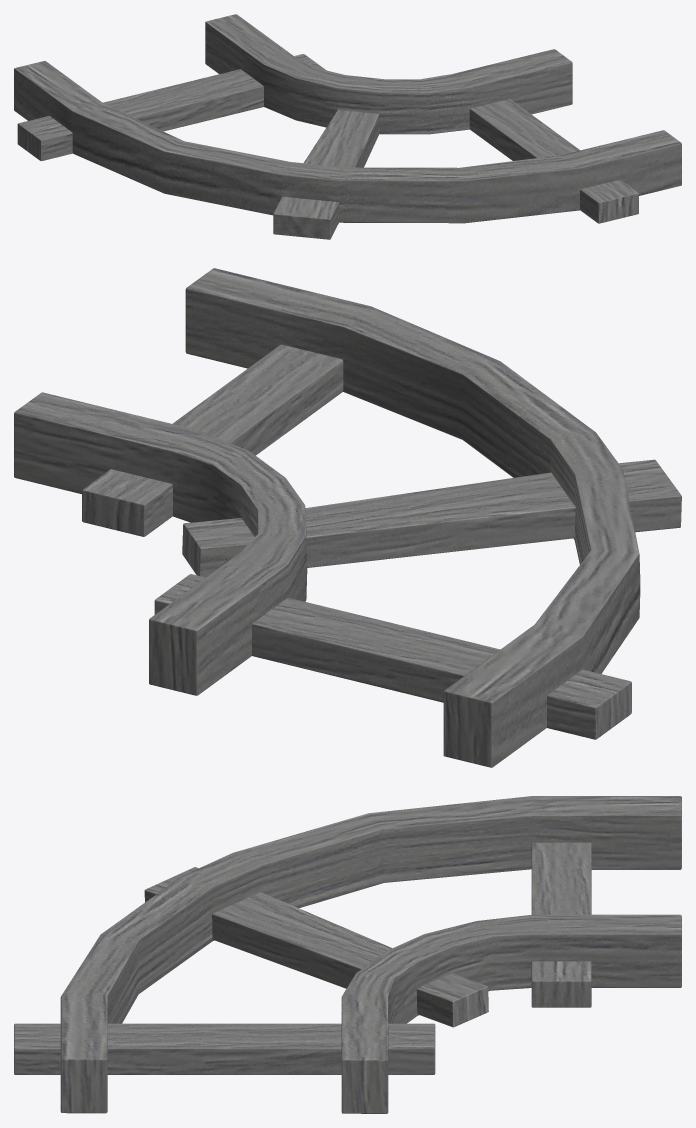
The model's file is RRTrackBlock002.obj.
3 renders of one model, top to bottom at view 1: azimuth 30°, elevation 25°; view 2: azimuth 150°, elevation 25°; view 3: azimuth 270°, elevation 25°, orthographic. The views are drawn at different scales.
Parts seen in each view (by area): view 1: pasted__pCube1 group; view 2: pasted__pCube1 group; view 3: pasted__pCube1 group.
Part boxes in pixels (box(x1,y1,x2,y2)): pasted__pCube1 group: box(14, 14, 681, 239); pasted__pCube1 group: box(14, 268, 681, 767); pasted__pCube1 group: box(14, 796, 681, 1113).
Size of the model in its own units: 559 by 50.63 by 555.
4 materials, 4 textured.
